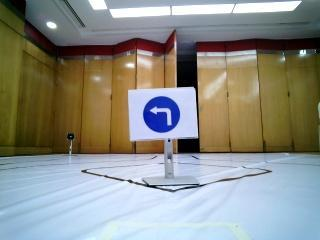left: (128, 93, 196, 140)
